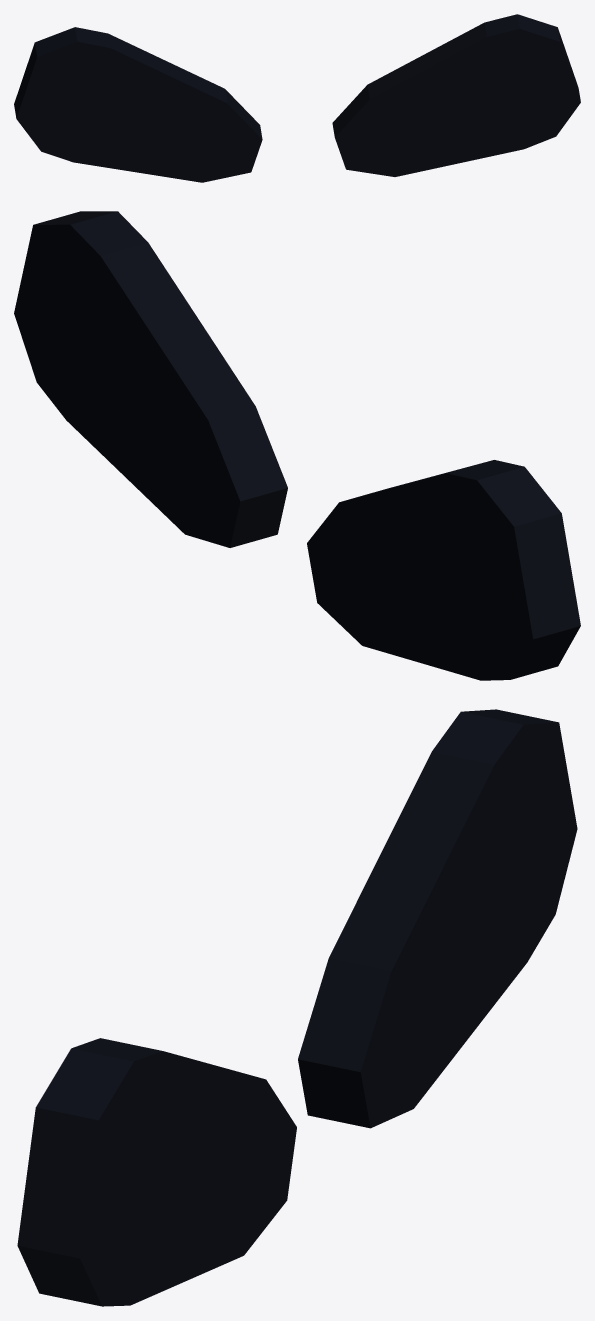
The model's file is BIG EYEBROWS.fbx.
3 views of the same model, one above another, from view 1: azimuth 30°, elevation 25°; view 2: azimuth 150°, elevation 25°; view 3: azimuth 270°, elevation 25° (orthographic). The views are drawn at different scales.
Parts seen in each view (by area): view 1: BIG_EYEBROWS; view 2: BIG_EYEBROWS; view 3: BIG_EYEBROWS.
Boxes of the visible parts, <box> form: BIG_EYEBROWS: <box>14,14,580,182</box>; BIG_EYEBROWS: <box>14,211,580,680</box>; BIG_EYEBROWS: <box>17,709,577,1306</box>.
Bounding box in the file's own units: 17.44 × 5.32 × 9.33.
